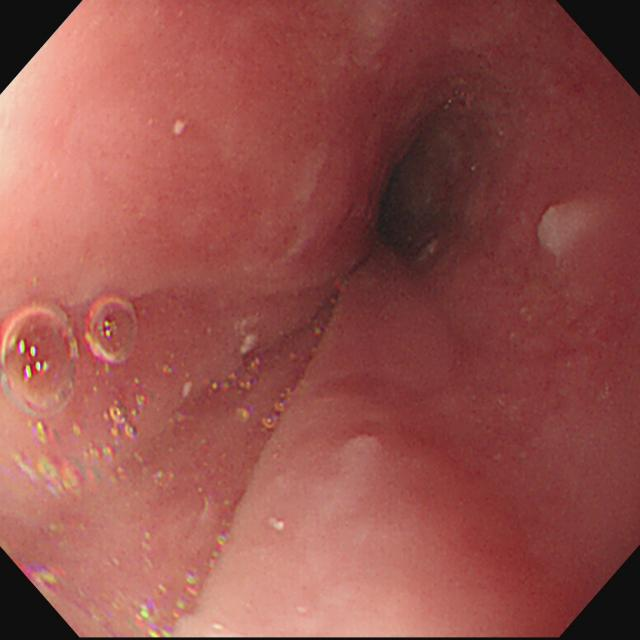E: (381, 151, 443, 256)
J: (246, 144, 331, 276), (336, 2, 403, 72), (536, 200, 597, 258), (336, 435, 389, 495), (234, 314, 261, 356), (266, 516, 287, 534), (174, 121, 187, 136)
T: (2, 297, 141, 418), (111, 404, 139, 438)
U: (136, 534, 226, 639), (11, 421, 101, 499), (19, 563, 71, 600), (24, 360, 51, 384), (16, 341, 37, 359), (99, 321, 114, 341)
